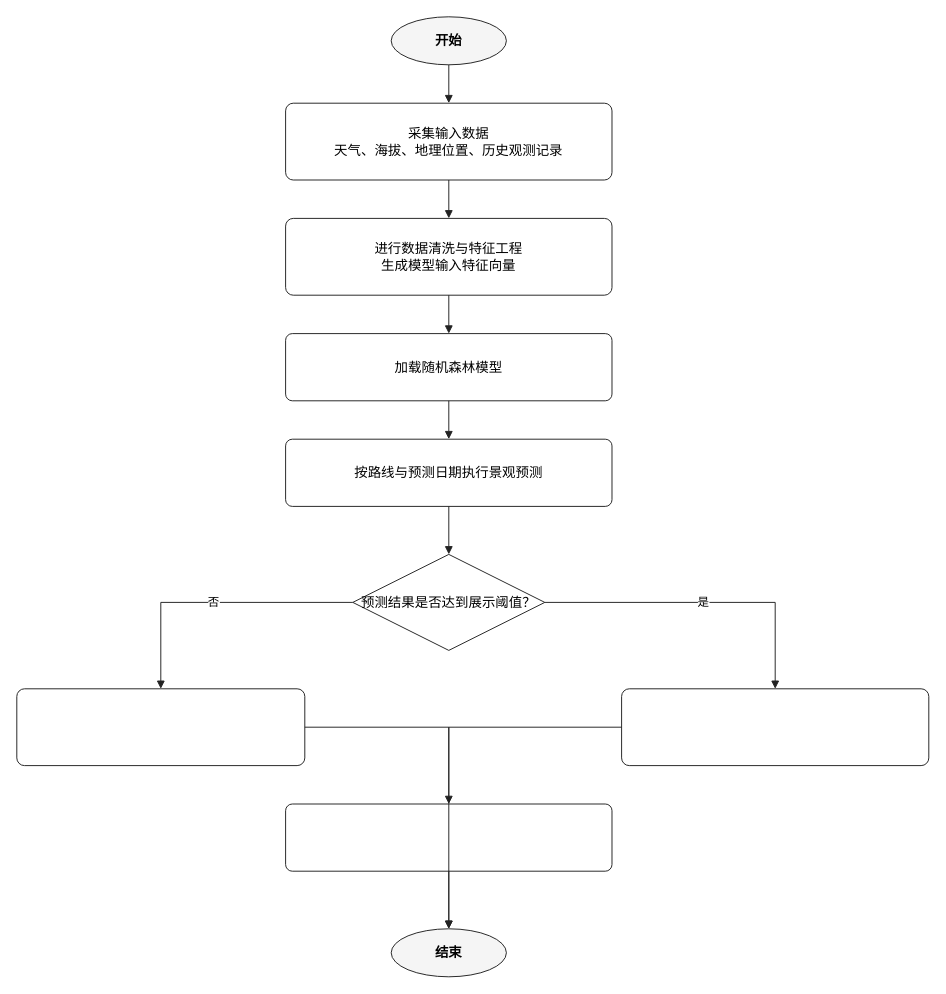
The diagram is 946 pixels wide and 994 high, and some of its shapes have lost their labels. Each missing label, with the box of its shape:
向前端展示景观预测信息: (285, 803, 612, 871)
标记为低置信结果 仅保留内部分析数据: (16, 688, 305, 766)
生成景观概率结果 并写入特征快照/预测结果: (621, 688, 929, 766)
